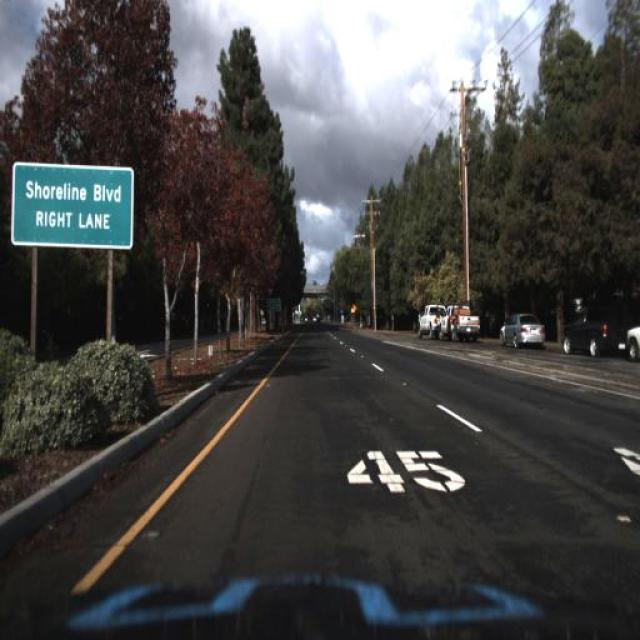car: (558, 310, 618, 358), (502, 311, 548, 348), (436, 307, 480, 344), (501, 312, 547, 347), (417, 300, 444, 344)
